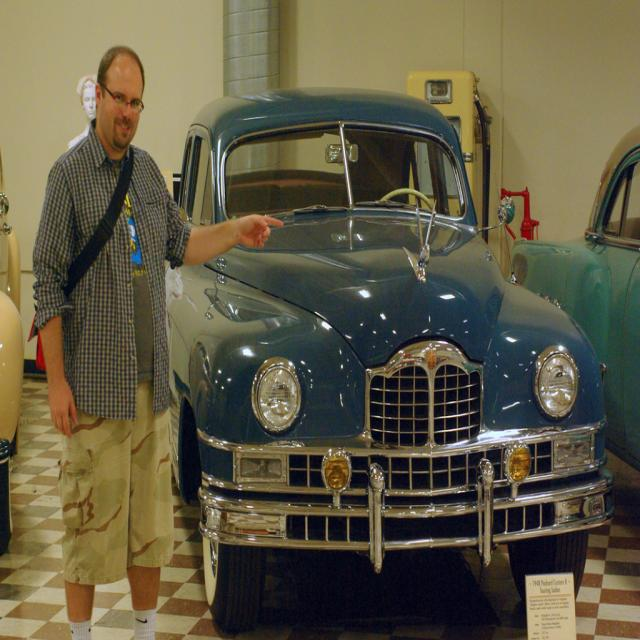Passenger Car: (184, 93, 606, 634)
Pedestrians: (33, 45, 283, 637)
